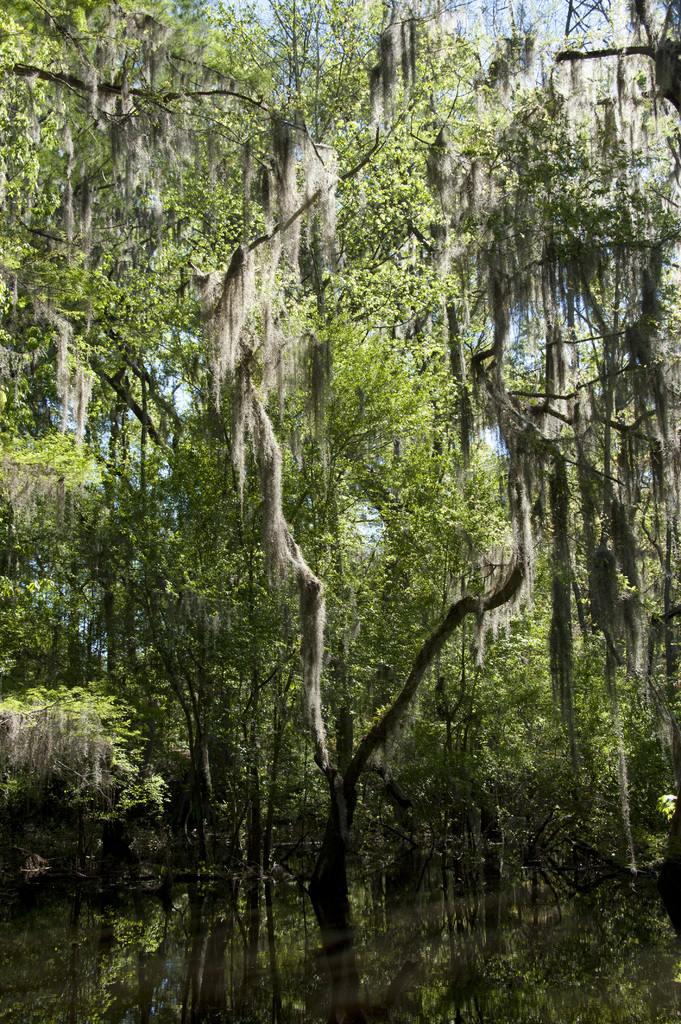Tree: (0, 0, 680, 840)
